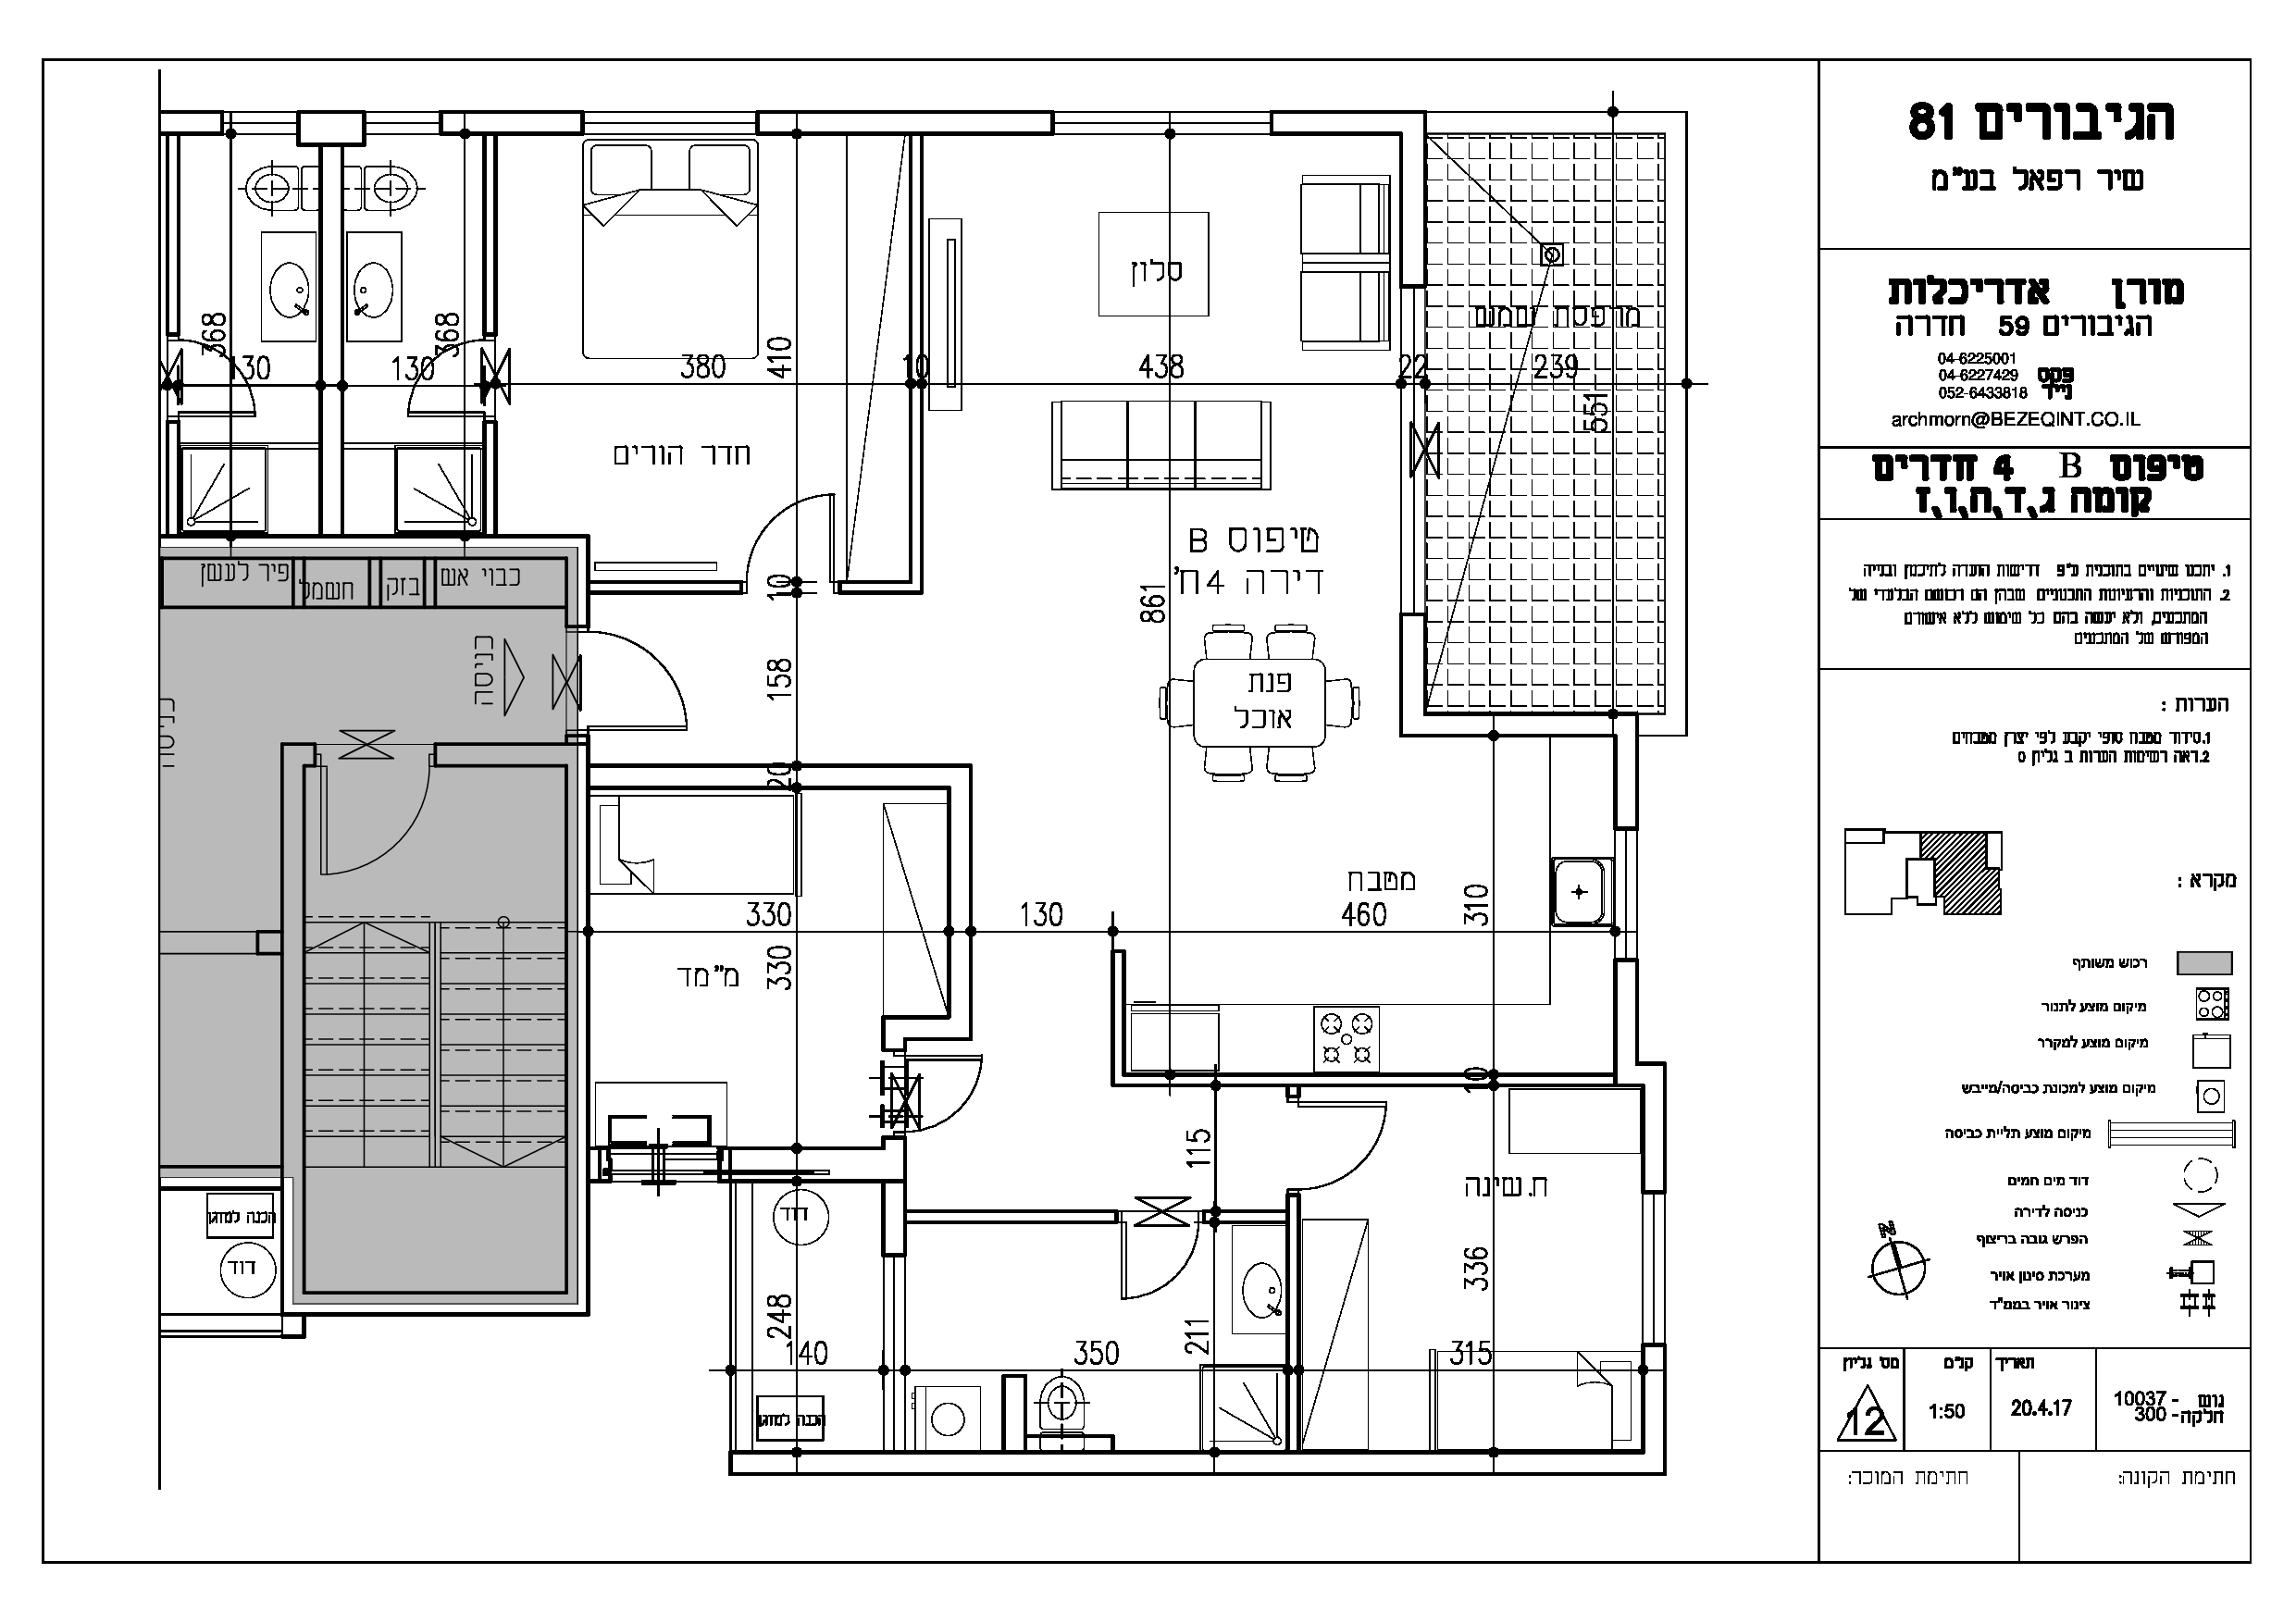door: (569, 610, 692, 748), (889, 1015, 1012, 1154), (1100, 1175, 1223, 1314), (1274, 1078, 1397, 1215), (406, 325, 516, 436), (733, 492, 843, 602), (155, 320, 265, 429)
window: (1042, 98, 1291, 148), (559, 98, 769, 151), (1604, 820, 1646, 985), (1637, 1189, 1679, 1354), (207, 97, 316, 151), (348, 97, 455, 151)
